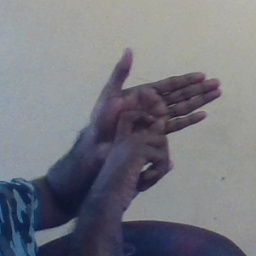R: (80, 39, 223, 198)
